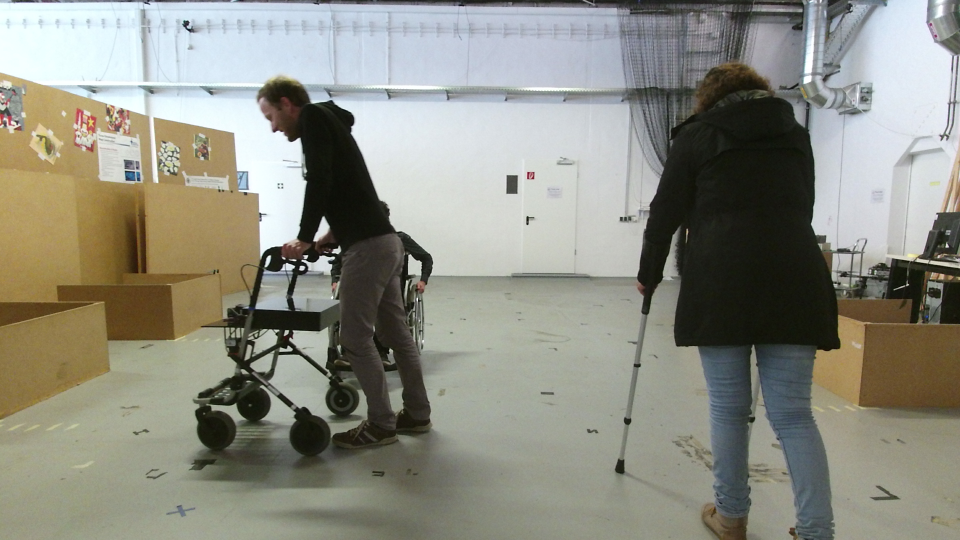crutches: (611, 57, 839, 540)
